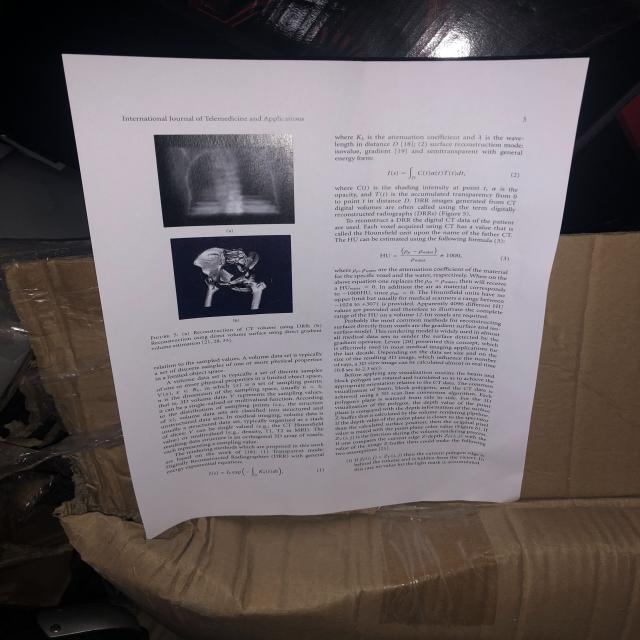document: (63, 55, 587, 538)
